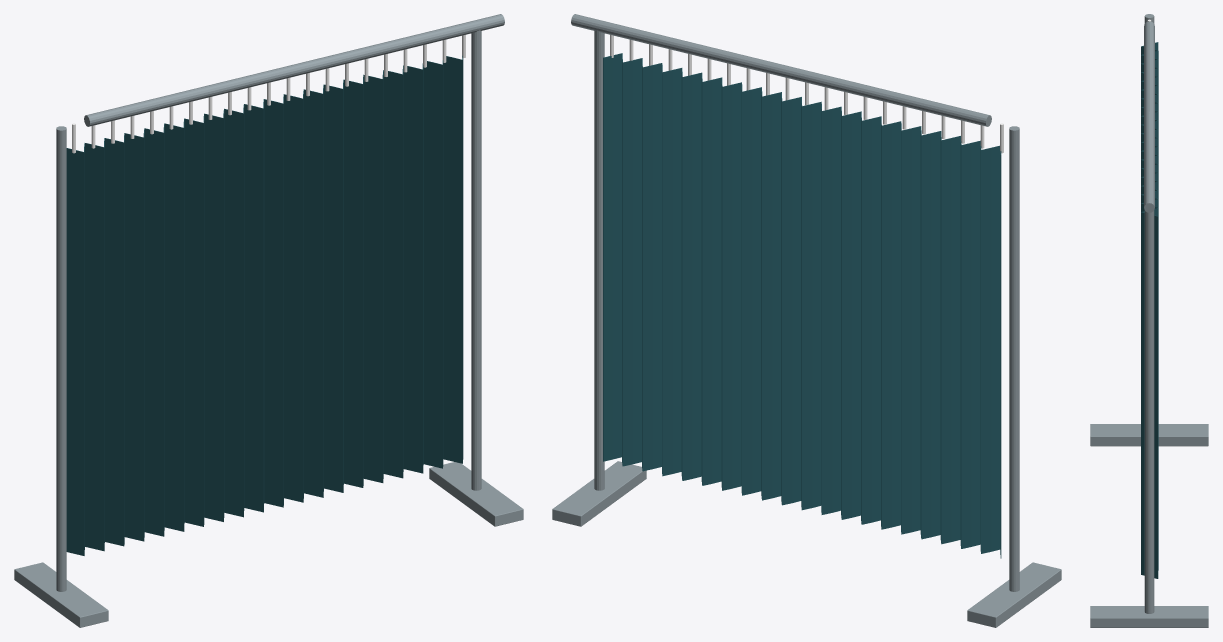
File: source-edit.glb
The picture shows the model from 3 angles, left to right: view 1: azimuth 30°, elevation 25°; view 2: azimuth 150°, elevation 25°; view 3: azimuth 270°, elevation 25°; orthographic projection. The views are drawn at different scales.
Parts seen in each view (by area): view 1: Pleated_Fabric, Curtain_Track, Post, Post.001, Foot, Foot.001; view 2: Pleated_Fabric, Curtain_Track, Post, Post.001, Foot, Foot.001; view 3: Pleated_Fabric, Post.001, Foot.001, Foot, Curtain_Track.
Boxes of the visible parts, x1=… form: Pleated_Fabric: x1=66, y1=55, x2=463, y2=555; Curtain_Track: x1=84, y1=14, x2=504, y2=126; Post: x1=56, y1=126, x2=66, y2=591; Post.001: x1=471, y1=30, x2=481, y2=490; Foot: x1=14, y1=562, x2=108, y2=627; Foot.001: x1=429, y1=462, x2=523, y2=526; Pleated_Fabric: x1=603, y1=53, x2=1001, y2=558; Curtain_Track: x1=571, y1=14, x2=991, y2=126; Post: x1=1009, y1=126, x2=1019, y2=591; Post.001: x1=594, y1=30, x2=604, y2=490; Foot: x1=967, y1=562, x2=1061, y2=627; Foot.001: x1=552, y1=461, x2=646, y2=526; Pleated_Fabric: x1=1141, y1=42, x2=1158, y2=578; Post.001: x1=1144, y1=210, x2=1154, y2=613; Foot.001: x1=1090, y1=606, x2=1208, y2=627; Foot: x1=1090, y1=424, x2=1208, y2=446; Curtain_Track: x1=1144, y1=21, x2=1154, y2=212.
Bounding box in the file's own units: 2.19 × 2.21 × 0.55.
